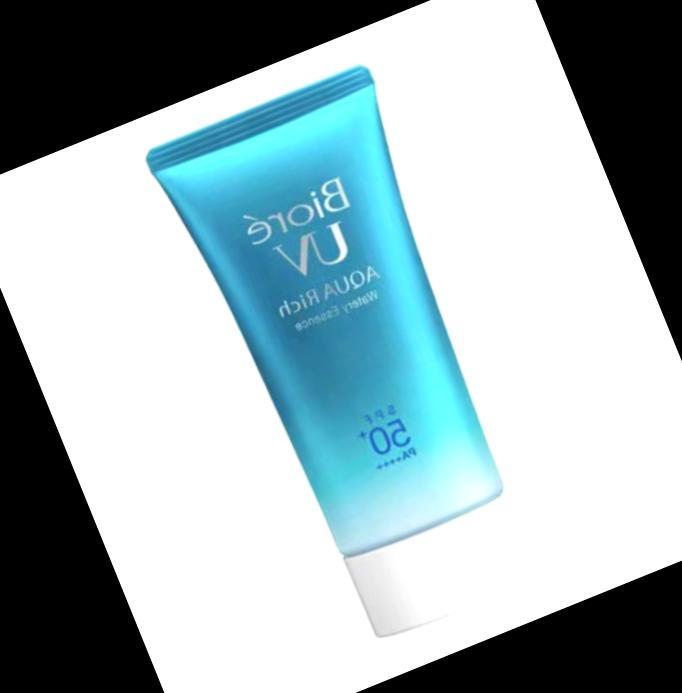cosmetic: (140, 58, 573, 658)
